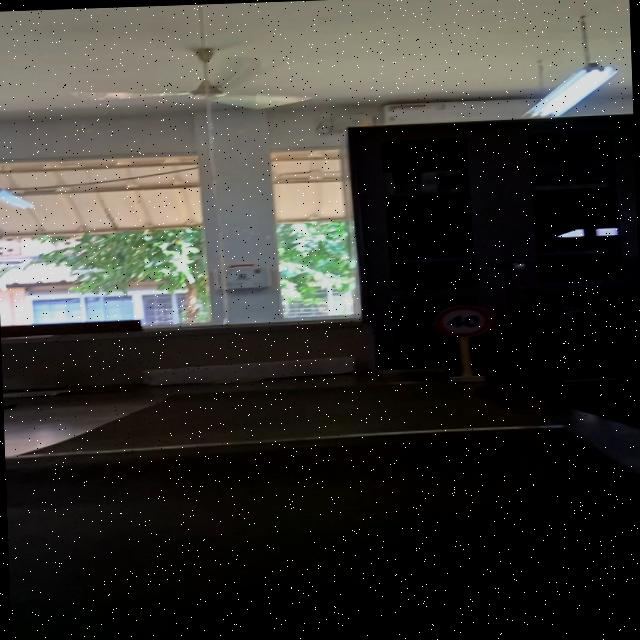Speed40: (431, 289, 499, 344)
